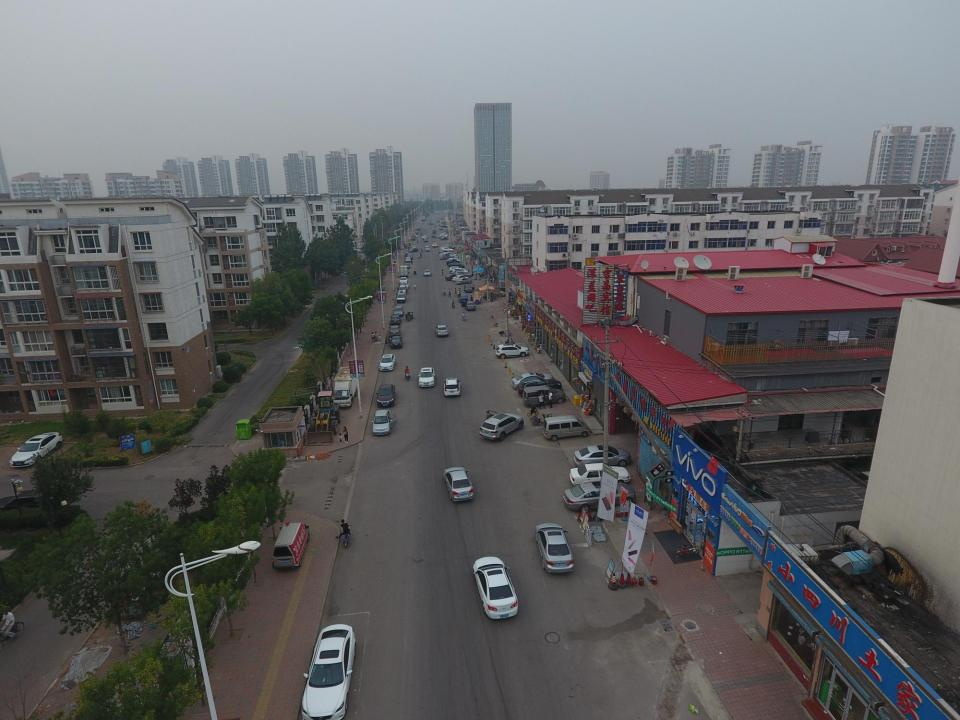car: (301, 624, 356, 720), (472, 556, 518, 619), (563, 481, 636, 513), (535, 522, 574, 573), (9, 432, 63, 467), (569, 462, 631, 488), (574, 444, 631, 468), (480, 410, 524, 441), (443, 466, 474, 502), (517, 376, 562, 396), (511, 372, 554, 390), (371, 410, 397, 436), (496, 343, 530, 359), (376, 384, 396, 407), (442, 377, 461, 397), (418, 368, 436, 388), (378, 354, 396, 371), (385, 335, 403, 348), (388, 325, 401, 337), (435, 325, 448, 337), (454, 277, 472, 285), (461, 301, 475, 311), (392, 306, 404, 317), (452, 275, 469, 282), (446, 258, 460, 266), (454, 271, 470, 278), (390, 315, 401, 325), (445, 274, 463, 280), (448, 262, 465, 268), (448, 266, 464, 272), (452, 268, 468, 274), (464, 284, 474, 293), (458, 294, 468, 303), (442, 252, 456, 258), (446, 258, 461, 263), (399, 282, 409, 289), (399, 277, 407, 285), (409, 247, 419, 253), (442, 247, 454, 252), (444, 246, 454, 251), (423, 270, 431, 276), (403, 262, 410, 268), (440, 246, 449, 250), (406, 254, 412, 260), (432, 243, 438, 248), (453, 256, 459, 261), (405, 257, 411, 262), (412, 245, 417, 250)
truck: (333, 366, 359, 408), (396, 291, 406, 304), (399, 265, 408, 277), (398, 285, 408, 294)
van: (271, 522, 310, 569), (542, 415, 590, 441), (522, 385, 565, 407), (438, 253, 451, 260), (424, 246, 430, 252), (444, 244, 450, 248)
